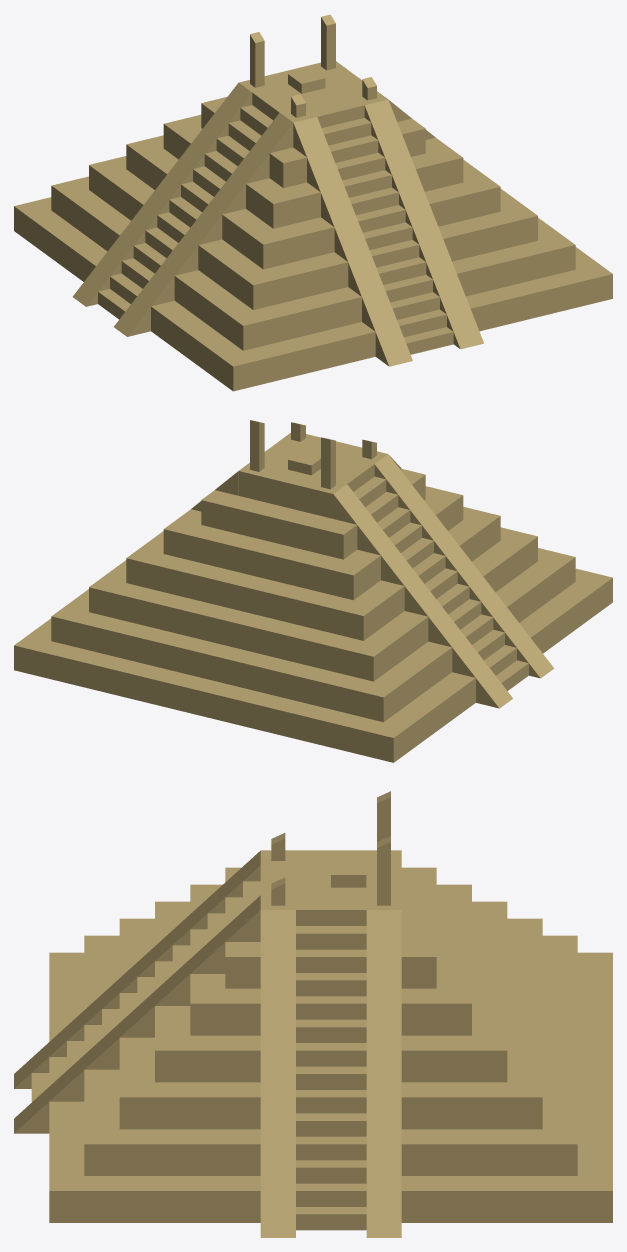
Rendered from temple.fbx.
The picture shows the model from 3 angles, top to bottom: view 1: azimuth 30°, elevation 25°; view 2: azimuth 150°, elevation 25°; view 3: azimuth 270°, elevation 25°; orthographic projection. The views are drawn at different scales.
Visible parts, largest first — view 1: Cube; view 2: Cube; view 3: Cube.
Boxes of the visible parts, x1,y1,x2,y2 form: Cube: (14, 14, 612, 391); Cube: (14, 420, 612, 762); Cube: (14, 791, 612, 1237).
Size of the model in its own units: 900 by 450 by 850.
